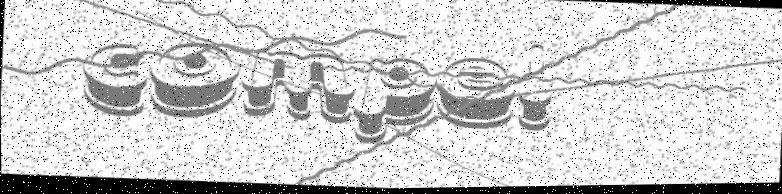c: (71, 39, 152, 120)
e: (432, 53, 519, 132)
l: (514, 44, 563, 136)
m: (238, 45, 358, 129)
o: (142, 35, 242, 121)
p: (350, 54, 442, 148)
